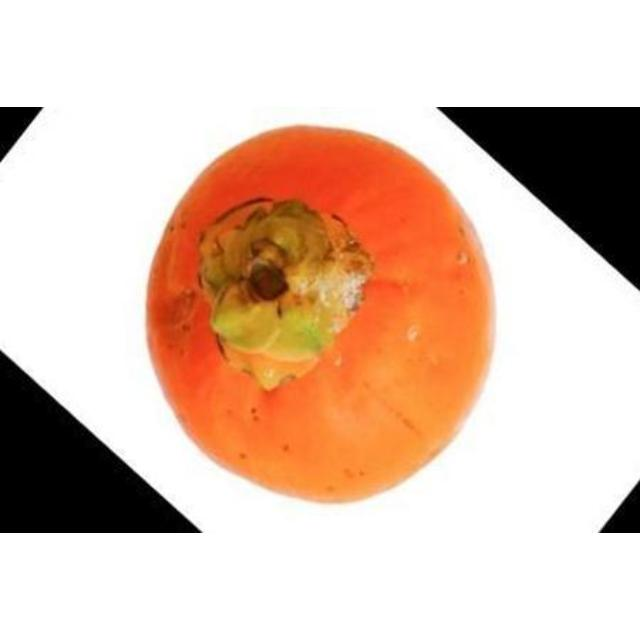good: (135, 127, 498, 508)
